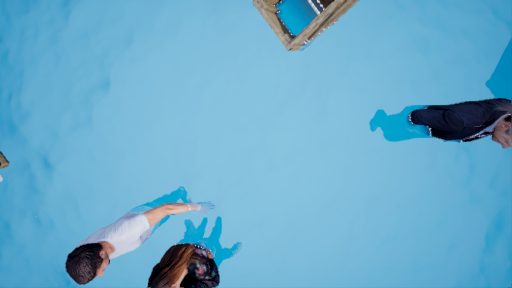person: (76, 190, 227, 288), (375, 97, 509, 154)
